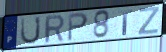8: (92, 9, 112, 41)
P: (67, 12, 90, 43)
R: (44, 14, 65, 45)
T: (117, 8, 134, 36)
U: (20, 15, 42, 45)
Z: (137, 6, 161, 36)
